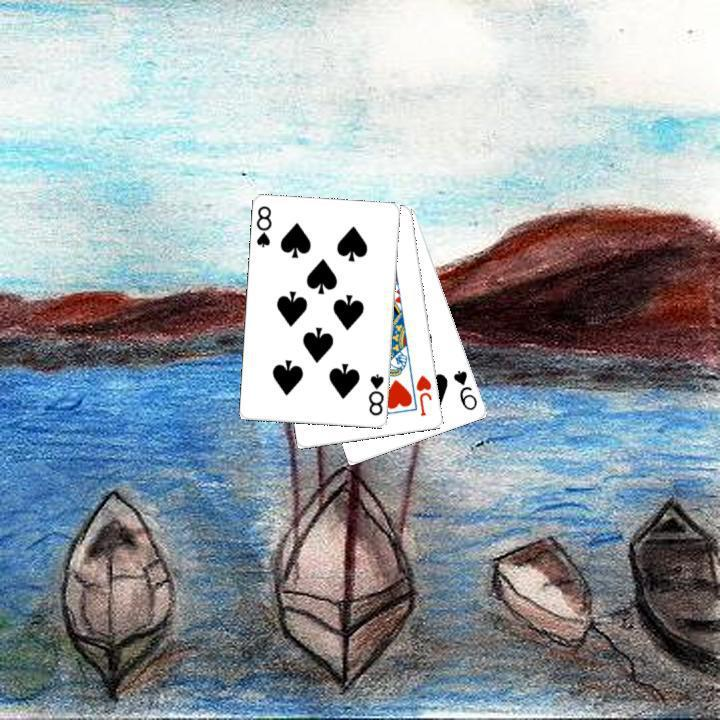8: (364, 369, 386, 418), (252, 202, 274, 250)
9: (449, 366, 479, 413)
J: (412, 371, 434, 418)
